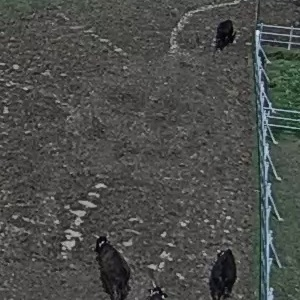cow: (83, 226, 146, 300), (192, 232, 245, 300), (202, 11, 246, 64)
